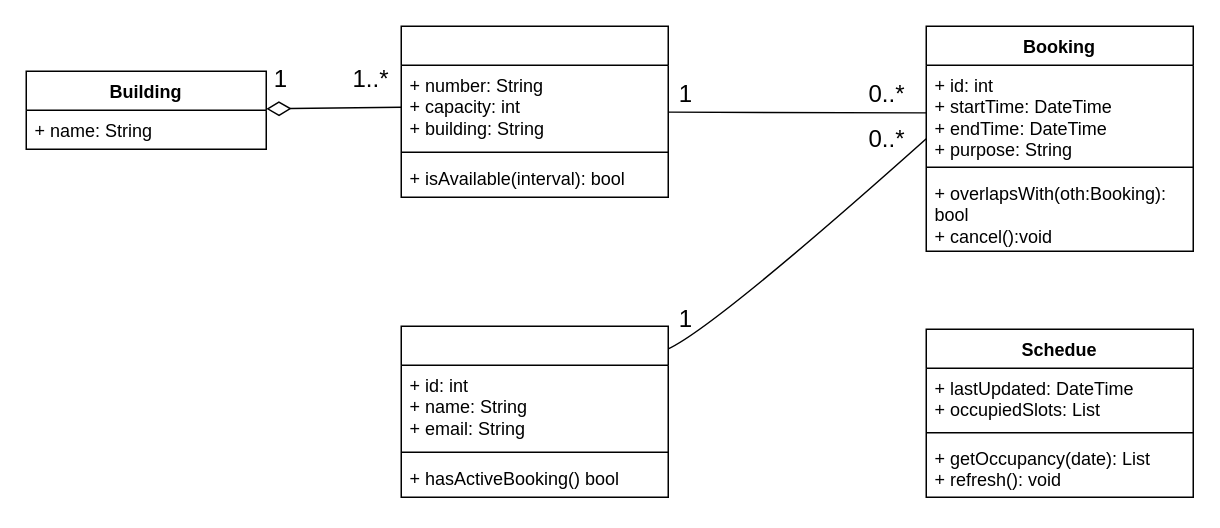
This 1220x528 diagram has some shape labels left out. The shapes that lost their labels are listed below. From the top down, each one's box as (x1, y1, x2, y2) in pixels, then its label:
(400, 25, 668, 197): Classrom
(400, 325, 668, 497): Employee
